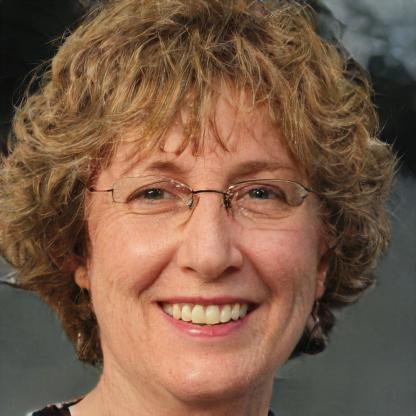glasses: (95, 173, 313, 232)
